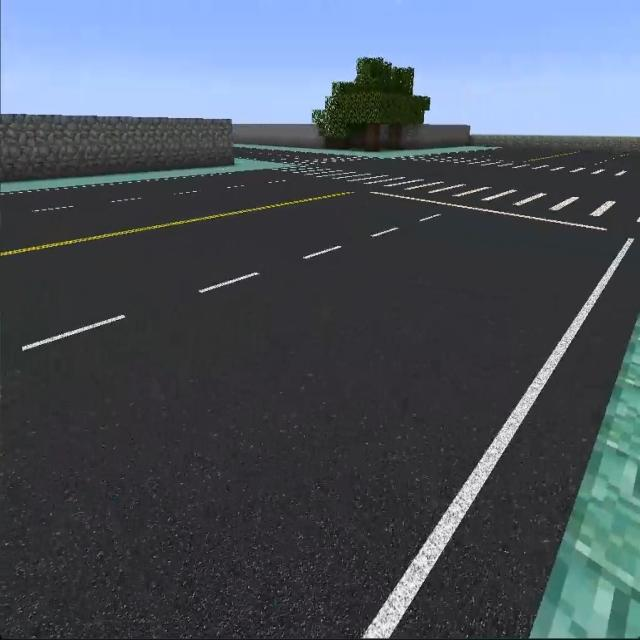crosswalk: (278, 165, 637, 234), (404, 153, 638, 190)
road: (4, 172, 639, 635)
sidewalk: (531, 314, 639, 639), (0, 160, 275, 193), (318, 145, 493, 158), (244, 145, 316, 151)
